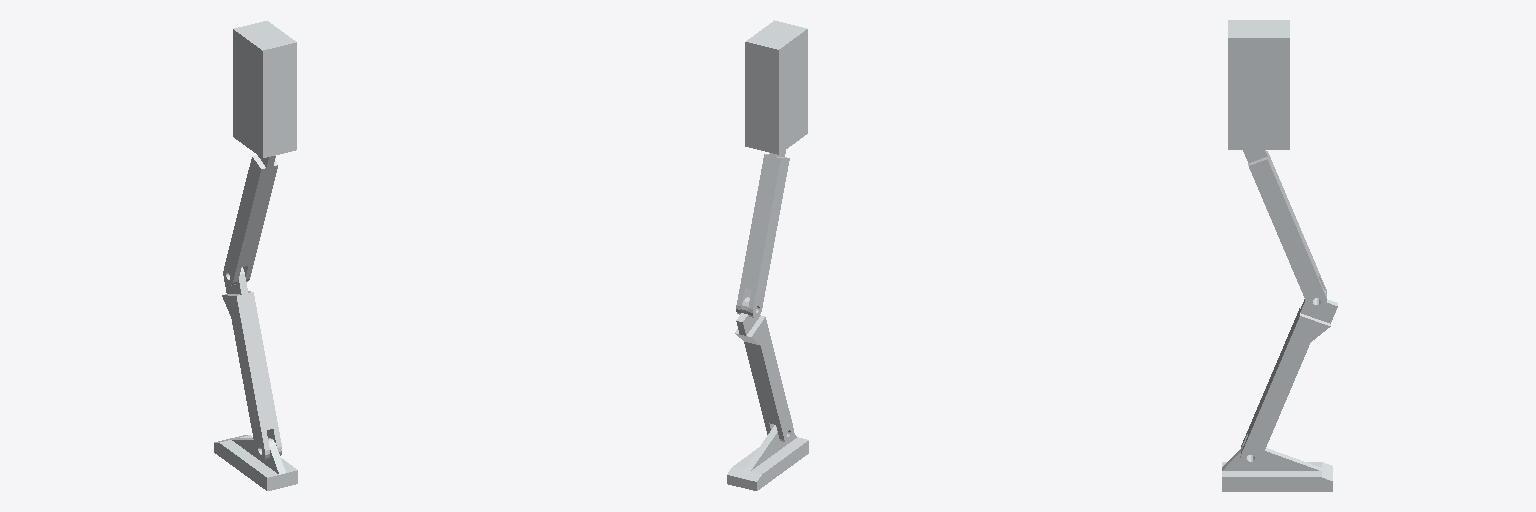
The robot description file, URDF, robot "hopper":
<?xml version="1.0" encoding="utf-8"?>
<!-- This URDF was automatically created by SolidWorks to URDF Exporter! Originally created by [author] ([email redacted])  Commit Version: 1.6.0-4-g7f85cfe Build Version: 1.6.7995.38578 For more information, please see http://wiki.ros.org/sw_urdf_exporter -->
<robot name="hopper">
  <link name="pelvis">
    <inertial>
      <origin xyz="0.0 0.04 0.15" rpy="0 0 0" />
      <mass value="5" />
      <inertia ixx="0.052666" ixy="0" ixz="0.0034676" iyy="0.071815" iyz="0" izz="0.11746" />
    </inertial>
    <visual>
      <origin xyz="0.0 0.04 0.15" rpy="0 0 0" />
      <geometry>
        <box size="0.1 0.15 0.3"/>
      </geometry>
      <material name="">
        <color rgba="0.89804 0.91765 0.92941 1" />
      </material>
    </visual>
    <collision>
      <origin xyz="0.0 0.04 0.15" rpy="0 0 0" />
      <geometry>
        <box size="0.15 0.2 0.35"/>
      </geometry>
    </collision>
  </link>
  <link name="femur">
    <inertial>
      <origin xyz="0.0 0.0 0.0" rpy="0 0 0" />
      <mass value="4" />
      <inertia ixx="0.043371" ixy="0" ixz="0" iyy="0.03793" iyz="0.014142" izz="0.0066034" />
    </inertial>
    <visual>
      <origin xyz="0.0 0.0 0.0" rpy="0 0 0" />
      <geometry>
        <mesh filename="../meshes/femur.STL" />
      </geometry>
      <material name="">
        <color rgba="0.89804 0.91765 0.92941 1" />
      </material>
    </visual>
  </link>
  <link name="tibia">
    <inertial>
      <origin xyz="0.0 0.0 0.0" rpy="0 0 0" />
      <mass value="1.9" />
      <inertia ixx="0.049785" ixy="0" ixz="0" iyy="0.042507" iyz="-0.017043" izz="0.0084955" />
    </inertial>
    <visual>
      <origin xyz="0.0 0.0 0.0" rpy="0 0 0" />
      <geometry>
        <mesh filename="../meshes/tibia.STL" />
      </geometry>
      <material name="">
        <color rgba="0.89804 0.91765 0.92941 1" />
      </material>
    </visual>
  </link>
  <link name="foot">
    <inertial>
      <origin xyz="0.0 0.0 0.0" rpy="0 0 0" />
      <mass value="0.6" />
      <inertia ixx="0.017181" ixy="0" ixz="0" iyy="0.0027601" iyz="0.00064537" izz="0.017764" />
    </inertial>
    <visual>
      <origin xyz="0.0 0.0 0.0" rpy="0 0 0" />
      <geometry>
        <mesh filename="../meshes/foot.STL" />
      </geometry>
      <material name="">
        <color rgba="0.89804 0.91765 0.92941 1" />
      </material>
    </visual>
    <collision>
      <origin xyz="0 0.05 -0.05" rpy="0 0 0" />
      <geometry>
        <!-- <mesh filename="../meshes/foot.STL" /> -->
        <box size="1.2 0.3 0.05"/>
      </geometry>
    </collision>
  </link>
  <joint name="hipjoint" type="revolute">
    <origin xyz="0.0 0.02 0.0" rpy="0 0 0" />
    <parent link="pelvis" />
    <child link="femur" />
    <axis xyz="-1 0 0" />
    <limit lower="-0.5" upper="0.6" effort="100" velocity="10" />
  </joint>
  <joint name="kneejoint" type="revolute">
    <origin xyz="0 0.16155 -0.42" rpy="0 0 0" />
    <parent link="femur" />
    <child link="tibia" />
    <axis xyz="-1 0 0" />
    <limit lower="-0.7" upper="1.3" effort="100" velocity="10" />
  </joint>
  <joint name="anklejoint" type="revolute">
    <origin xyz="0 -0.16155 -0.42" rpy="0 0 0" />
    <parent link="tibia" />
    <child link="foot" />
    <axis xyz="-1 0 0" />
    <limit lower="-0.6" upper="1" effort="100" velocity="10" />
  </joint>
</robot>

--- What the picture shows (computed from the rendered views, not written in the file) ---
Views: 3 orthographic renders of the robot side by side, from view 1: azimuth 30°, elevation 25°; view 2: azimuth 150°, elevation 25°; view 3: azimuth 270°, elevation 25°.
Model hopper with 4 links and 3 joints (3 revolute), rooted at pelvis, posed every joint at zero.
Links seen in each view (by area): view 1: pelvis, tibia, femur, foot; view 2: pelvis, femur, tibia, foot; view 3: pelvis, tibia, femur, foot.
Boxes of the visible links, bbox=[...] form: pelvis: bbox=[233, 21, 296, 158]; tibia: bbox=[222, 267, 281, 459]; femur: bbox=[223, 155, 277, 285]; foot: bbox=[214, 435, 297, 490]; pelvis: bbox=[745, 20, 807, 154]; femur: bbox=[736, 150, 789, 318]; tibia: bbox=[735, 297, 793, 442]; foot: bbox=[727, 425, 808, 490]; pelvis: bbox=[1228, 20, 1289, 149]; tibia: bbox=[1240, 290, 1337, 466]; femur: bbox=[1243, 150, 1326, 310]; foot: bbox=[1222, 446, 1332, 491].
Bounding box of the posed robot: 0.1 × 0.2829 × 1.22 m (x, y, z).
Meshes: 3 distinct files referenced, 3 mesh visuals loaded (3 binary STL).
